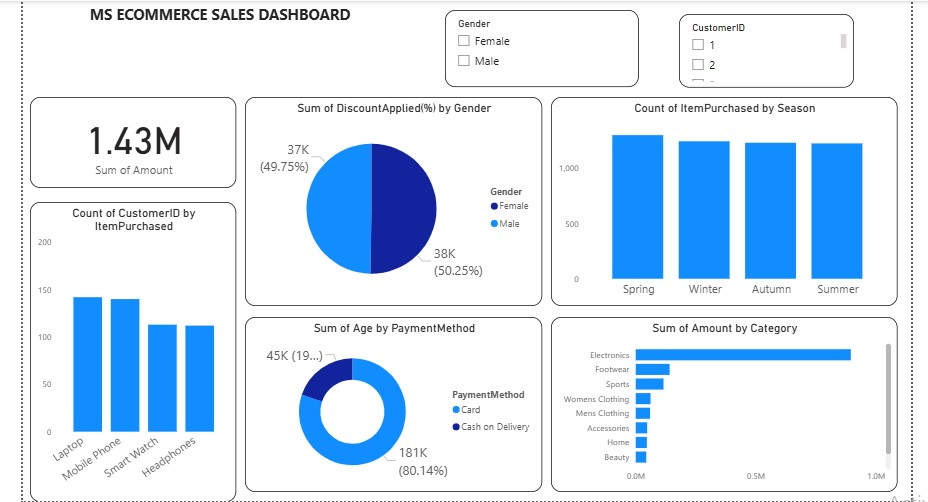

What the dashboard file says about the page in this screenshot:
{"tool":"powerbi","page":{"name":"Page 1","canvas":[1280,720],"ordinal":0},"visuals":[{"type":"textbox","box":[10.1,0,547.6,124.3],"z":0},{"type":"columnChart","fields":{"Category":["store_sales.Season"],"Y":["CountNonNull(store_sales.ItemPurchased)"]},"box":[760.9,137.7,498.9,300.7],"z":1},{"type":"barChart","fields":{"Category":["store_sales.Category"],"Y":["Sum(store_sales.Amount)"]},"box":[760.9,455.2,498.9,252],"z":2},{"type":"donutChart","fields":{"Category":["store_sales.PaymentMethod"],"Y":["Sum(store_sales.Age)"]},"box":[319.2,455.2,428.3,252],"z":3},{"type":"pieChart","fields":{"Category":["store_sales.Gender"],"Y":["Sum(store_sales.DiscountApplied(%))"]},"box":[319.2,137.7,428.3,300.7],"z":4},{"type":"card","fields":{"Values":["Sum(store_sales.Amount)"]},"box":[10.1,137.7,297.3,131],"z":5},{"type":"columnChart","fields":{"Category":["store_sales.ItemPurchased"],"Y":["CountNonNull(store_sales.CustomerID)"]},"box":[10.1,288.9,297.3,431.7],"z":6},{"type":"slicer","fields":{"Values":["store_sales.Gender"]},"box":[608.1,13.4,278.8,110.9],"z":7},{"type":"slicer","fields":{"Values":["store_sales.CustomerID"]},"box":[944,18.5,252,105.8],"z":8}]}

Visuals, with their boxes in screenshot pixels (x1, y1, x2, y2):
textbox: 29, 2, 406, 88
columnChart - store_sales.Season x CountNonNull(store_sales.ItemPurchased): 546, 97, 889, 304
barChart - store_sales.Category x Sum(store_sales.Amount): 546, 316, 889, 489
donutChart - store_sales.PaymentMethod x Sum(store_sales.Age): 242, 316, 536, 489
pieChart - store_sales.Gender x Sum(store_sales.DiscountApplied(%)): 242, 97, 536, 304
card - Sum(store_sales.Amount): 29, 97, 233, 187
columnChart - store_sales.ItemPurchased x CountNonNull(store_sales.CustomerID): 29, 201, 233, 499
slicer - store_sales.Gender: 440, 12, 632, 88
slicer - store_sales.CustomerID: 672, 15, 845, 88
